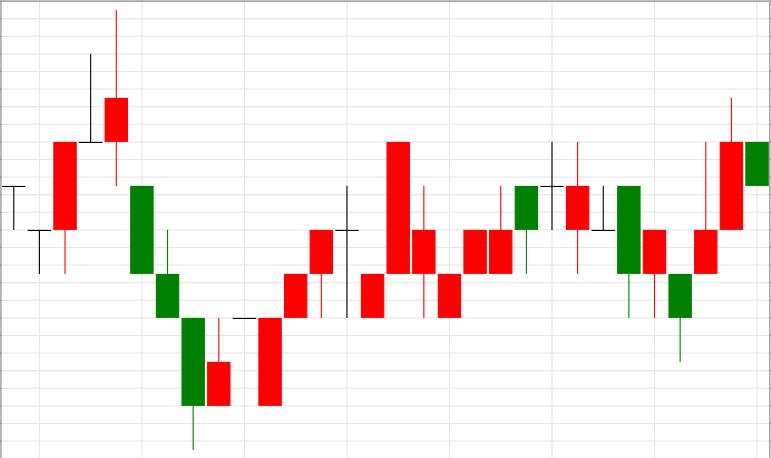evening_star_fall: (438, 142, 589, 319)
three_black_crows_fall: (28, 10, 204, 451)
